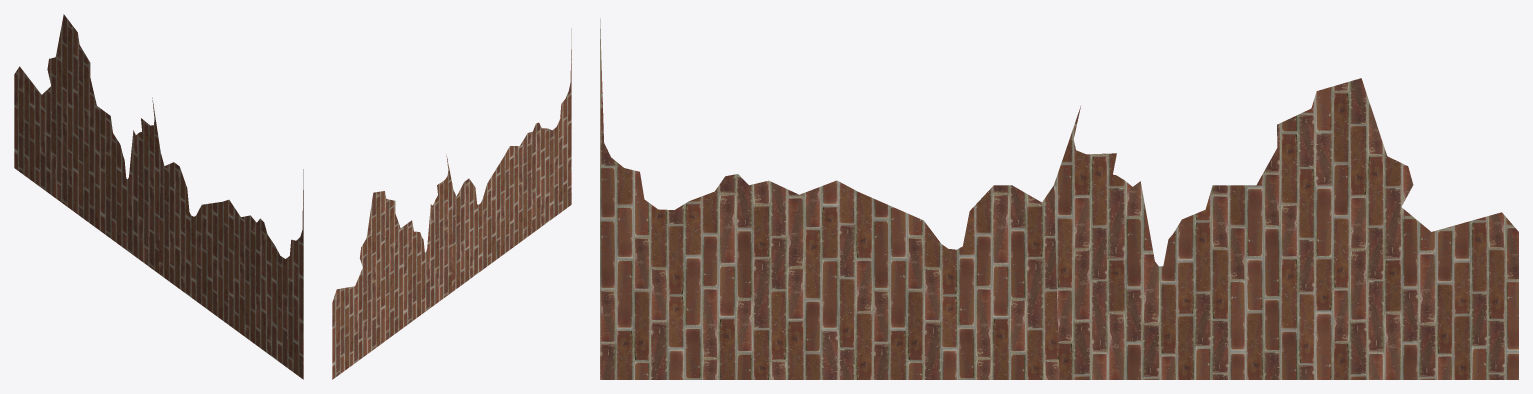
File: Wall_Damage02.fbx
The picture shows the model from 3 angles, left to right: view 1: azimuth 30°, elevation 25°; view 2: azimuth 150°, elevation 25°; view 3: azimuth 270°, elevation 25°; orthographic projection. The views are drawn at different scales.
Parts seen in each view (by area): view 1: Wall_Damage02; view 2: Wall_Damage02; view 3: Wall_Damage02.
Boxes of the visible parts, <box> form: Wall_Damage02: <box>14,14,303,379</box>; Wall_Damage02: <box>332,28,571,379</box>; Wall_Damage02: <box>600,18,1518,379</box>.
Size of the model in its own units: 0 by 378 by 860.
